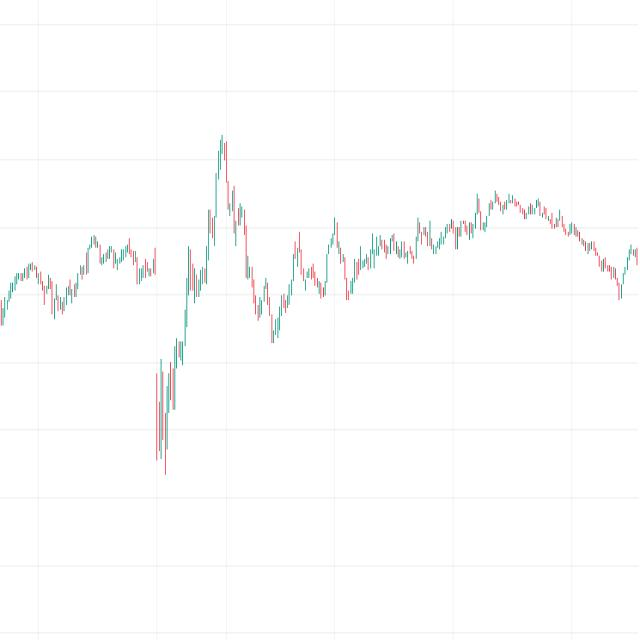Rising-Wedge: (285, 178, 524, 325)
